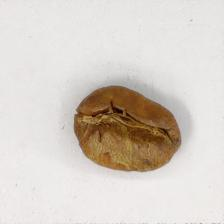NG: (80, 98, 174, 165)
